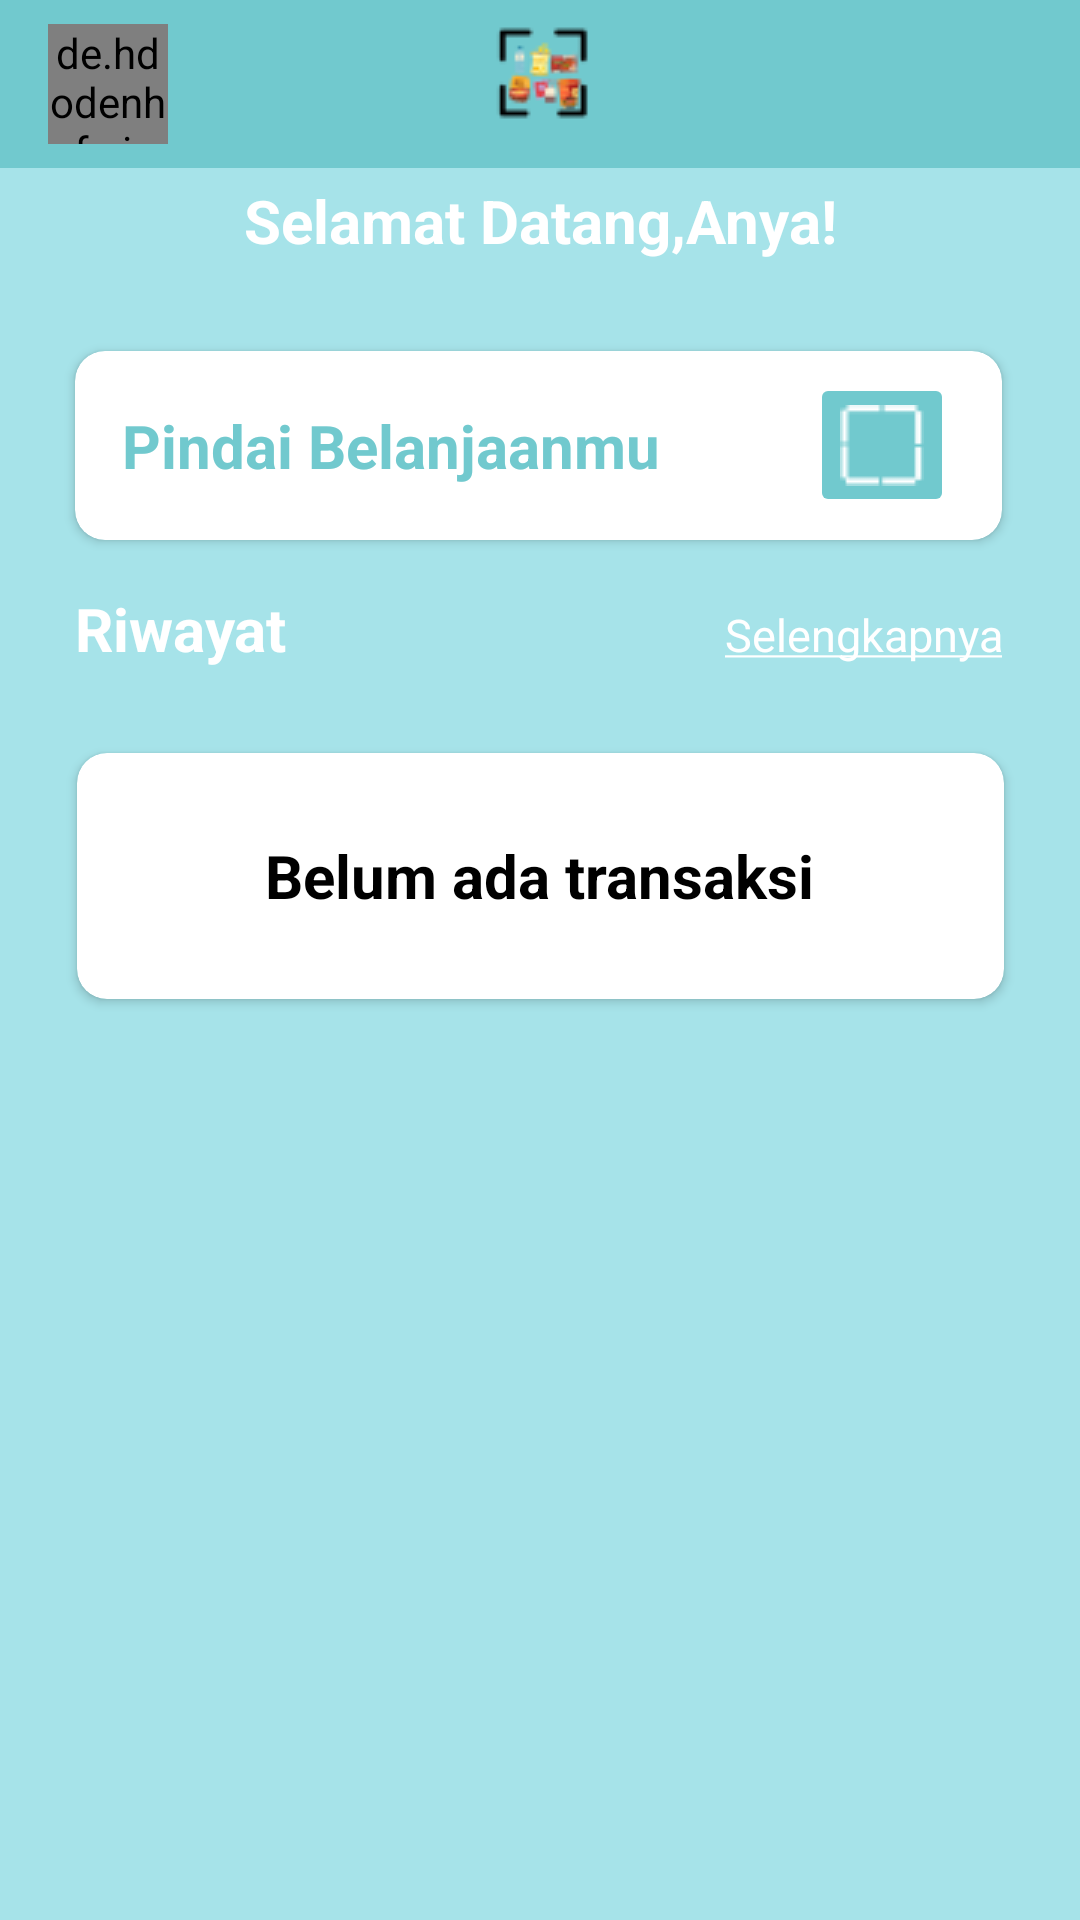

Named icons in this screenshot (1080*1920) and their centers, [x,y]:
scan: [882,445]
